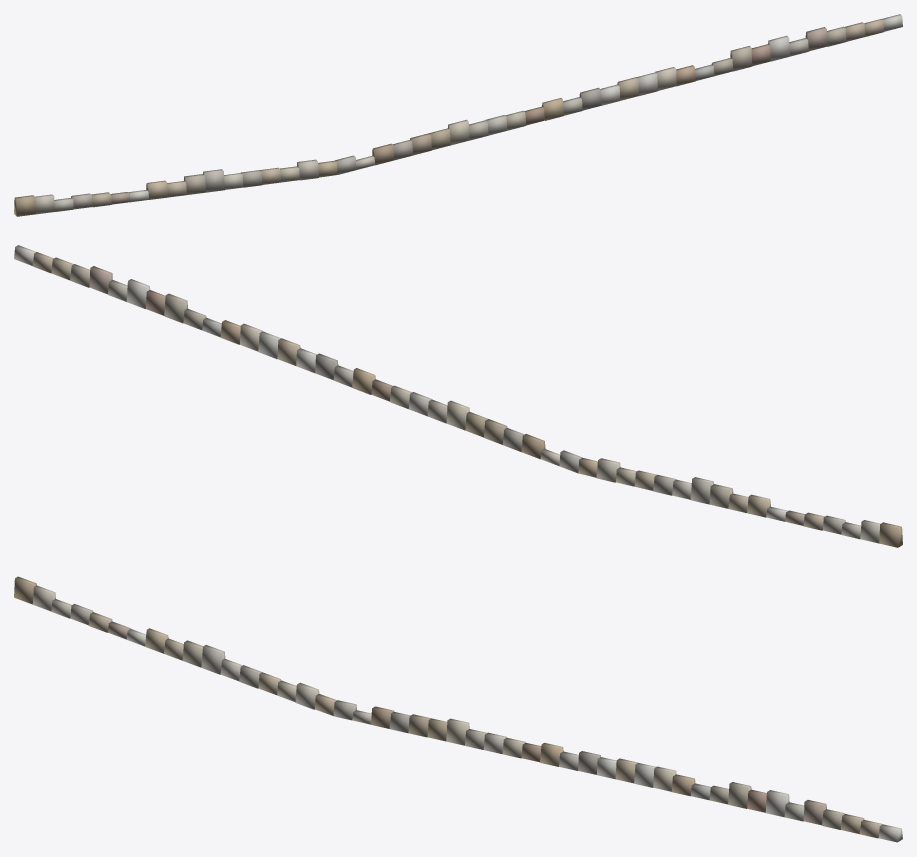
The model's file is farm_-1_4_collision.glb.
3 views of the same model, one above another, from view 1: azimuth 30°, elevation 25°; view 2: azimuth 150°, elevation 25°; view 3: azimuth 330°, elevation 25° (orthographic). The views are drawn at different scales.
Visible parts, largest first — view 1: geometry_0; view 2: geometry_0; view 3: geometry_0.
Part boxes in pixels (x1,y1,x2,y2): geometry_0: (14, 14, 902, 216); geometry_0: (14, 245, 902, 547); geometry_0: (14, 576, 902, 842).
Bounding box in the file's own units: 74.46 × 4.36 × 7.84.
